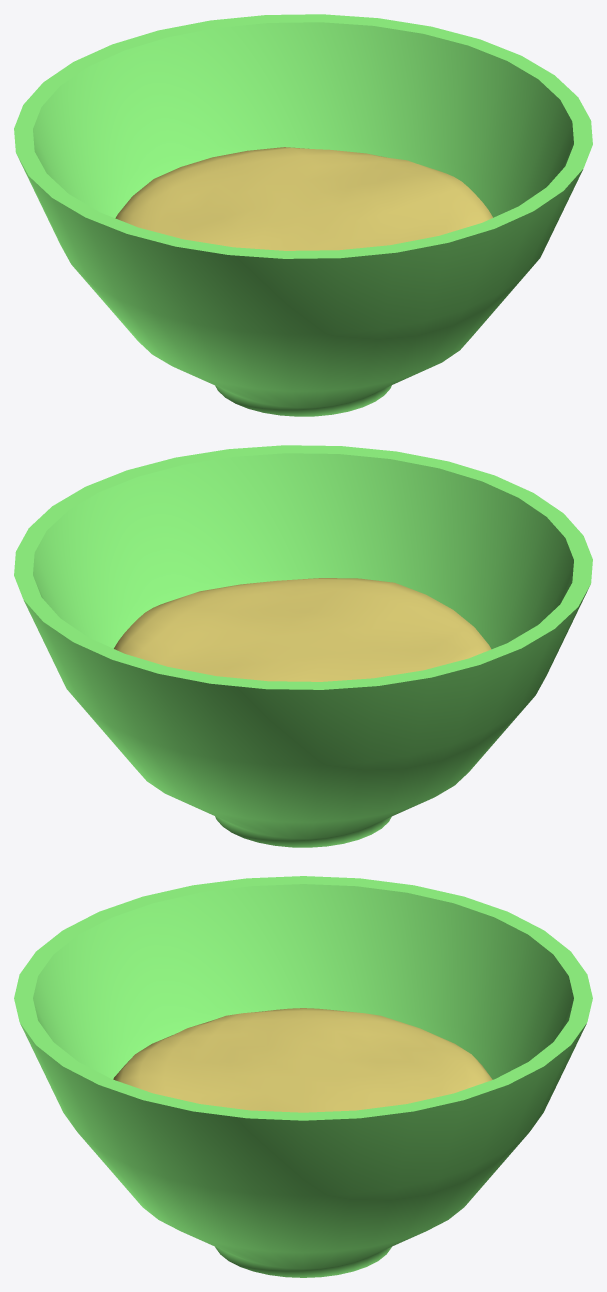
File: bowld.dae
3 views of the same model, one above another, from view 1: azimuth 30°, elevation 25°; view 2: azimuth 150°, elevation 25°; view 3: azimuth 270°, elevation 25° (orthographic).
Visible parts, largest first — view 1: Bowl, flour; view 2: Bowl, flour; view 3: Bowl, flour.
Boxes of the visible parts, x1,y1,x2,y2 form: Bowl: (14, 14, 592, 416); flour: (115, 147, 492, 250); Bowl: (14, 445, 592, 847); flour: (114, 578, 491, 681); Bowl: (14, 876, 592, 1277); flour: (113, 1008, 492, 1112).
Size of the model in its own units: 6.43 by 6.43 by 2.96.
